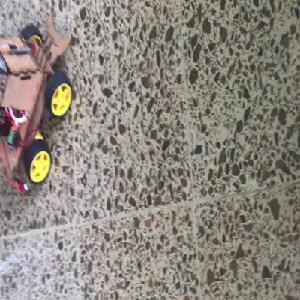Robot: (0, 14, 72, 184)
